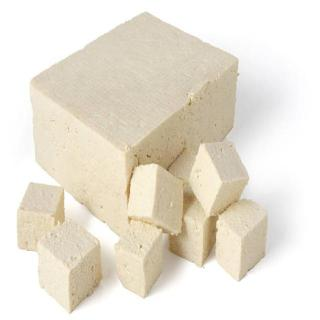Tahu: (28, 6, 251, 242), (168, 144, 270, 282), (1, 179, 108, 309), (111, 161, 185, 301)
